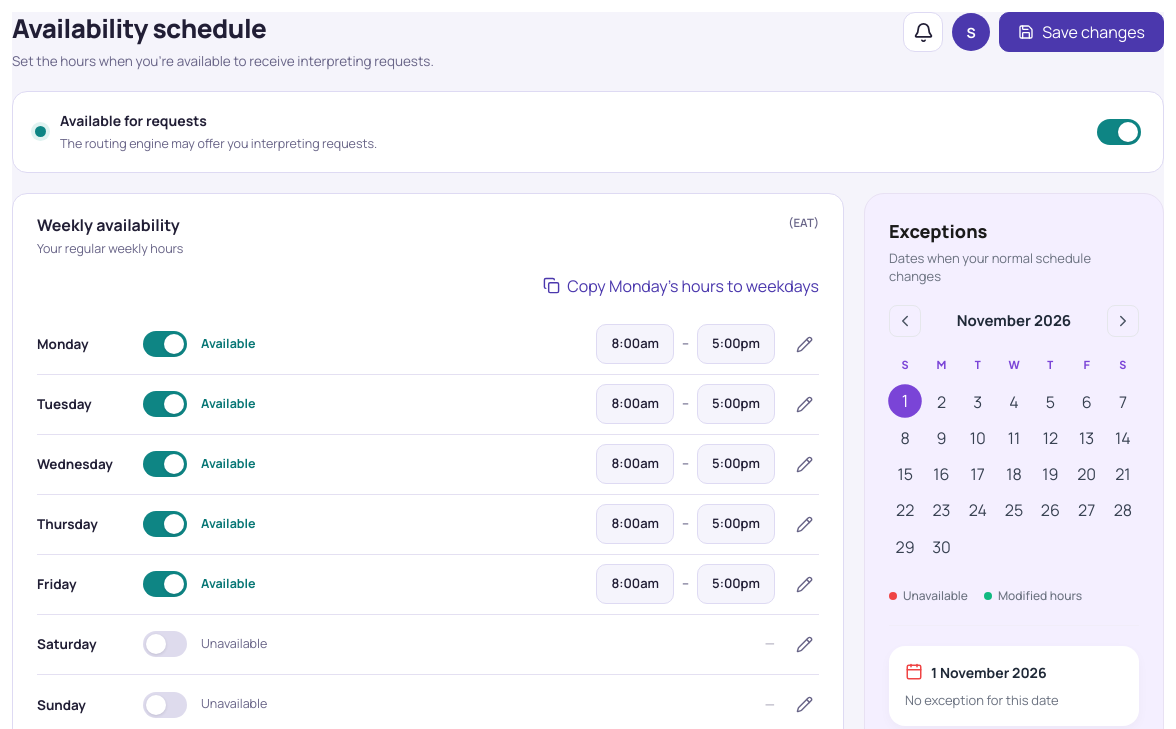
Test case: AvailabilityPage date range on the calendar › selects a range with two clicks, highlights the days in between and shows its length
Click the button named "24 November 2026" at x=978, y=510, box [962,494,994,527]
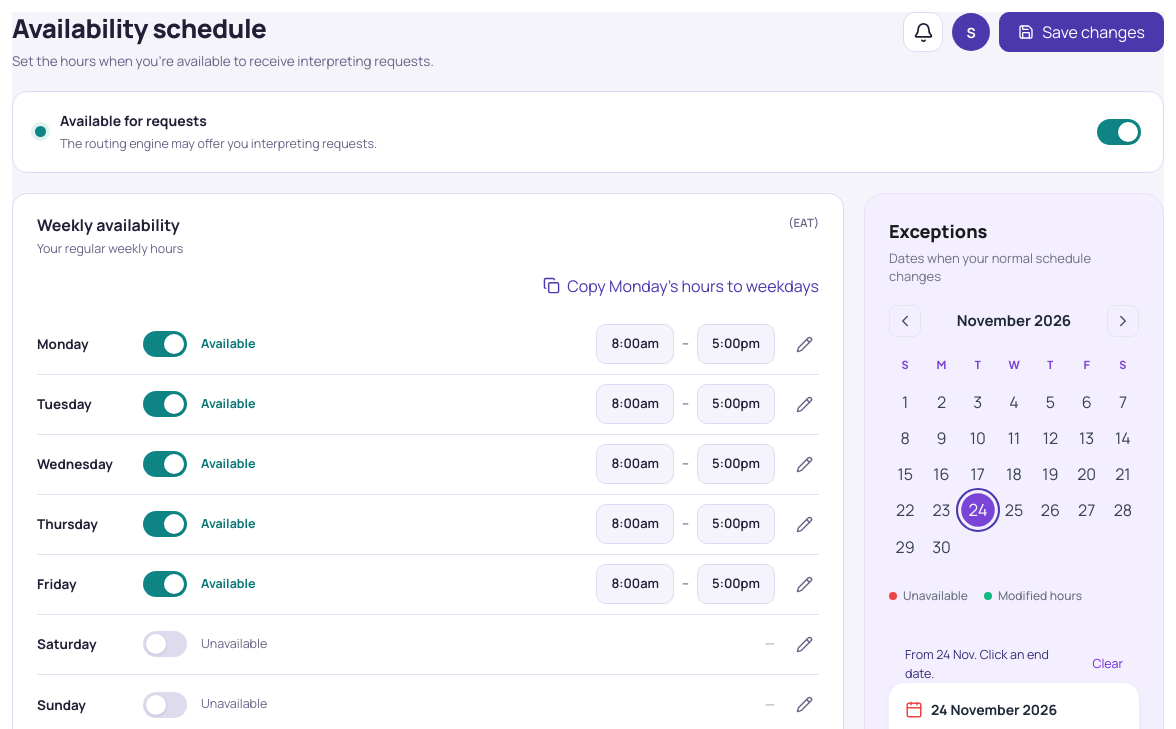
Click the button named "27 November 2026" at x=1087, y=510, box [1070,494,1103,527]
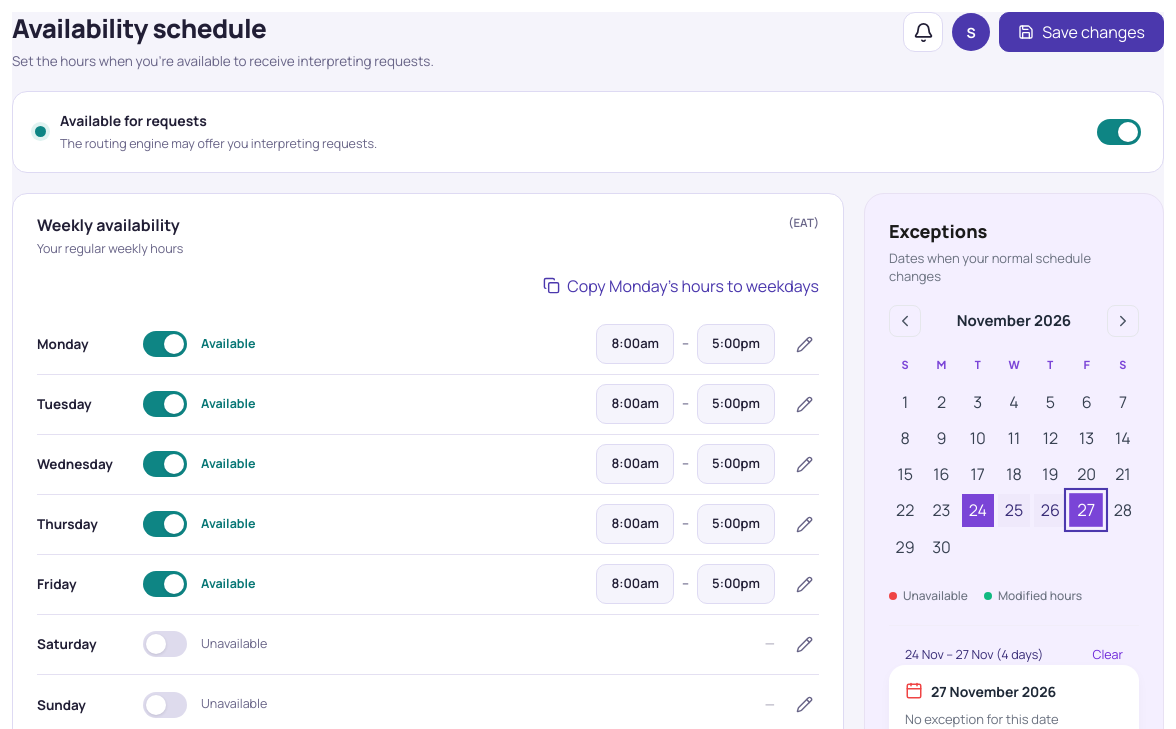
Expected: the text "24 Nov – 27 Nov (4 days)" is shown, [905,646,1043,665]
